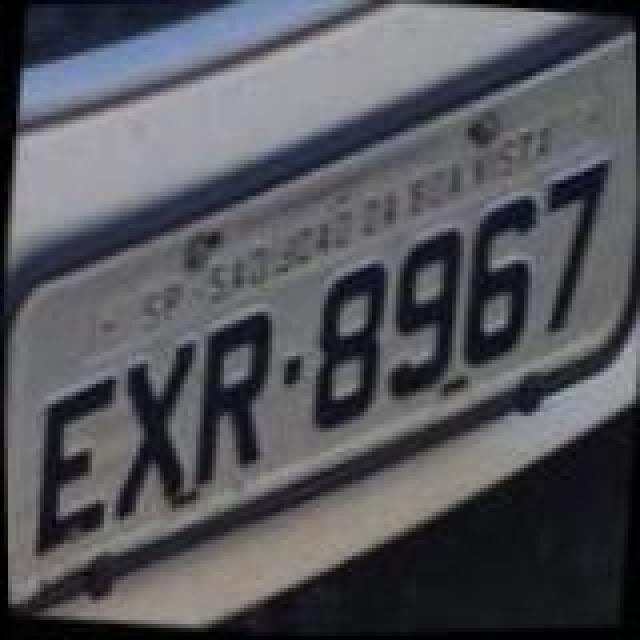6: (454, 190, 542, 374)
7: (532, 150, 620, 342)
8: (302, 256, 390, 440)
9: (382, 222, 470, 406)
E: (28, 368, 124, 568)
R: (186, 304, 278, 496)
X: (110, 334, 202, 530)
